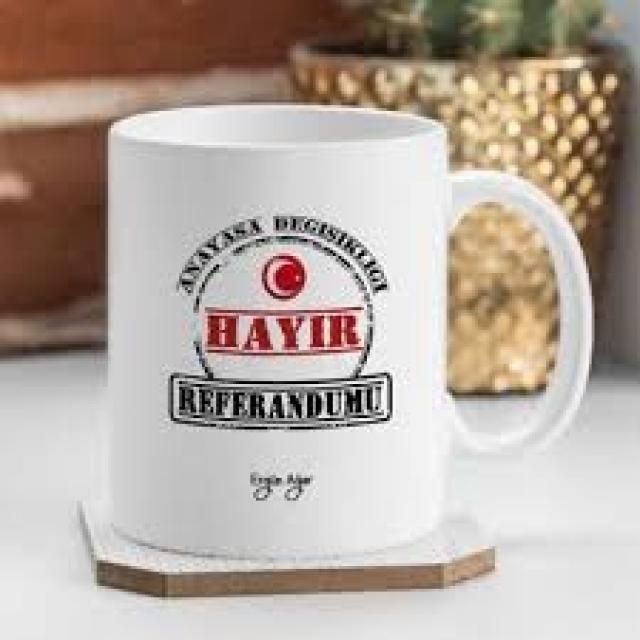taza: (108, 104, 594, 561)
